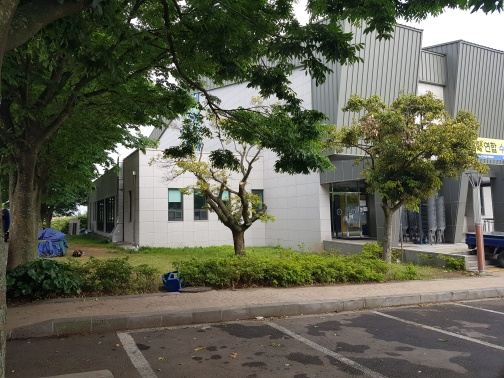Gym: (85, 36, 495, 274)
